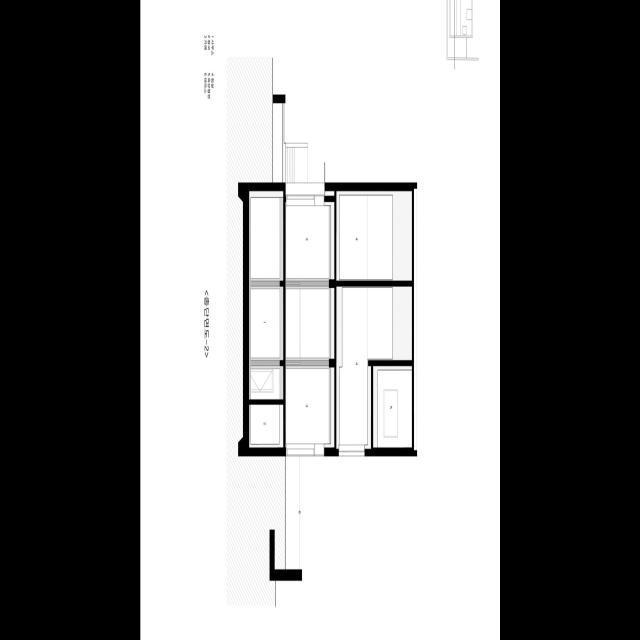background: (140, 0, 500, 640)
space_bedroom: (336, 286, 412, 449), (336, 191, 412, 281)
space_other: (285, 202, 334, 448), (249, 191, 283, 399), (373, 366, 412, 448), (249, 404, 283, 448), (325, 191, 334, 196)
